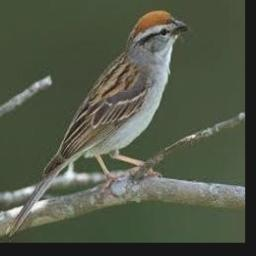Sparrow: (7, 9, 190, 236)
